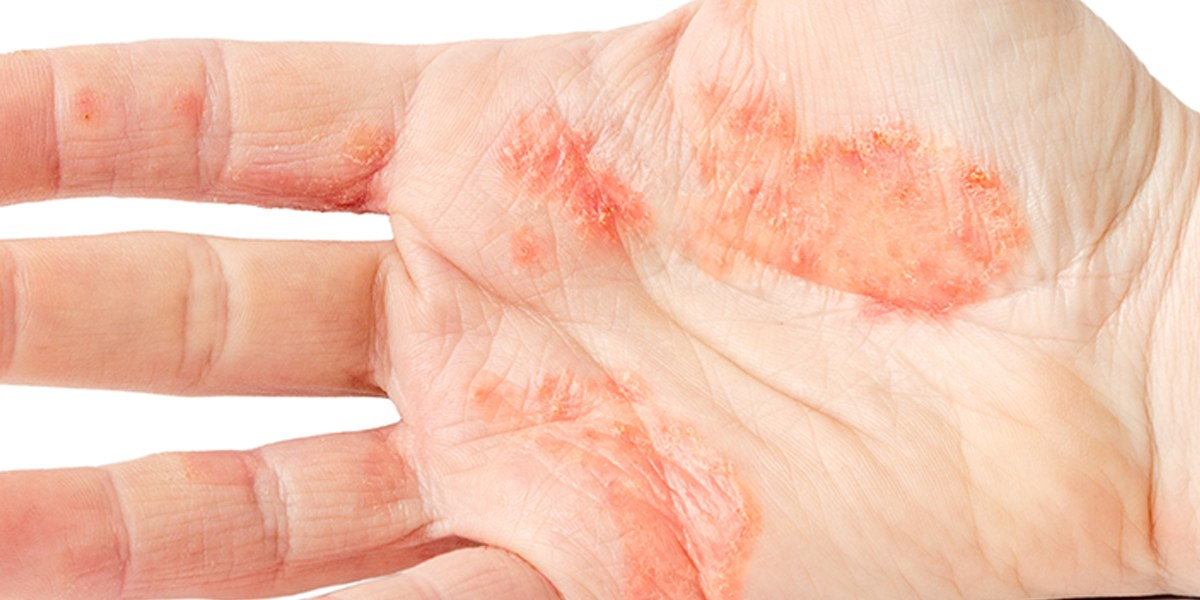Diseased: (261, 51, 1020, 573)
